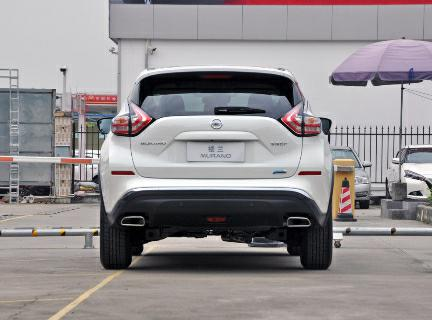日产-楼兰: (93, 60, 343, 278)
